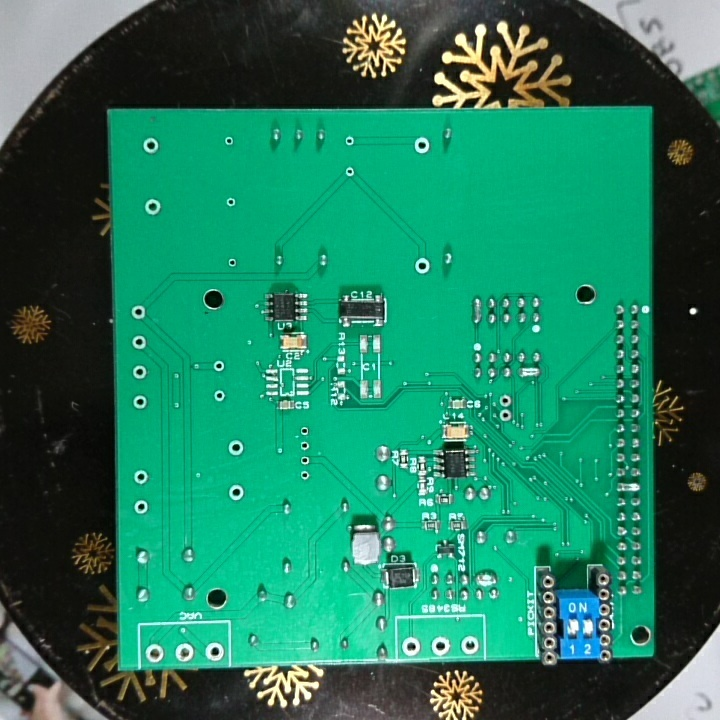F: (459, 633, 481, 657), (203, 640, 225, 663), (144, 640, 165, 664), (400, 634, 421, 658), (174, 639, 194, 664), (429, 635, 450, 658), (411, 135, 431, 158), (412, 255, 433, 276), (143, 197, 164, 218), (140, 135, 160, 157), (225, 438, 245, 459), (226, 483, 245, 503), (132, 467, 150, 488), (129, 303, 148, 322), (130, 363, 148, 382), (131, 393, 149, 412), (130, 334, 148, 352), (132, 498, 151, 515), (210, 358, 229, 375), (497, 407, 514, 425), (211, 387, 228, 404), (342, 132, 356, 151), (497, 392, 513, 408), (297, 423, 313, 438), (343, 164, 357, 179), (225, 255, 239, 270), (297, 468, 311, 483), (297, 438, 312, 452), (224, 195, 237, 211), (223, 133, 235, 150), (299, 453, 311, 469)
P: (473, 570, 499, 589), (614, 480, 643, 495), (515, 364, 542, 380), (471, 295, 482, 327)
